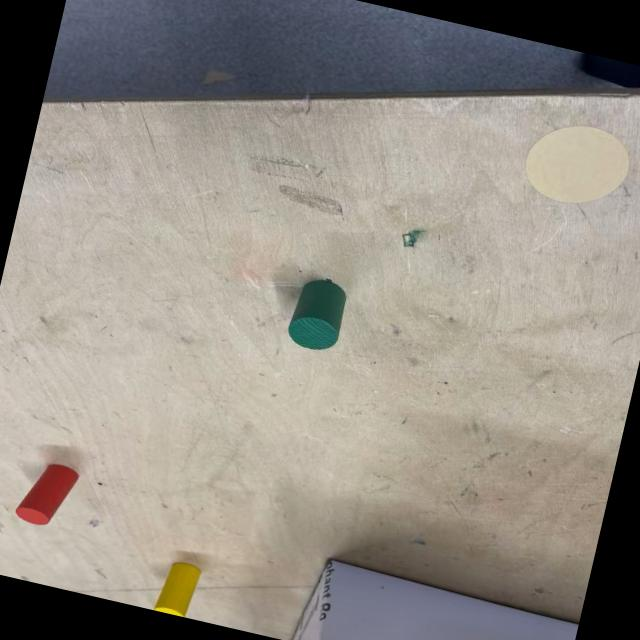green_cylinder: (284, 274, 350, 354)
